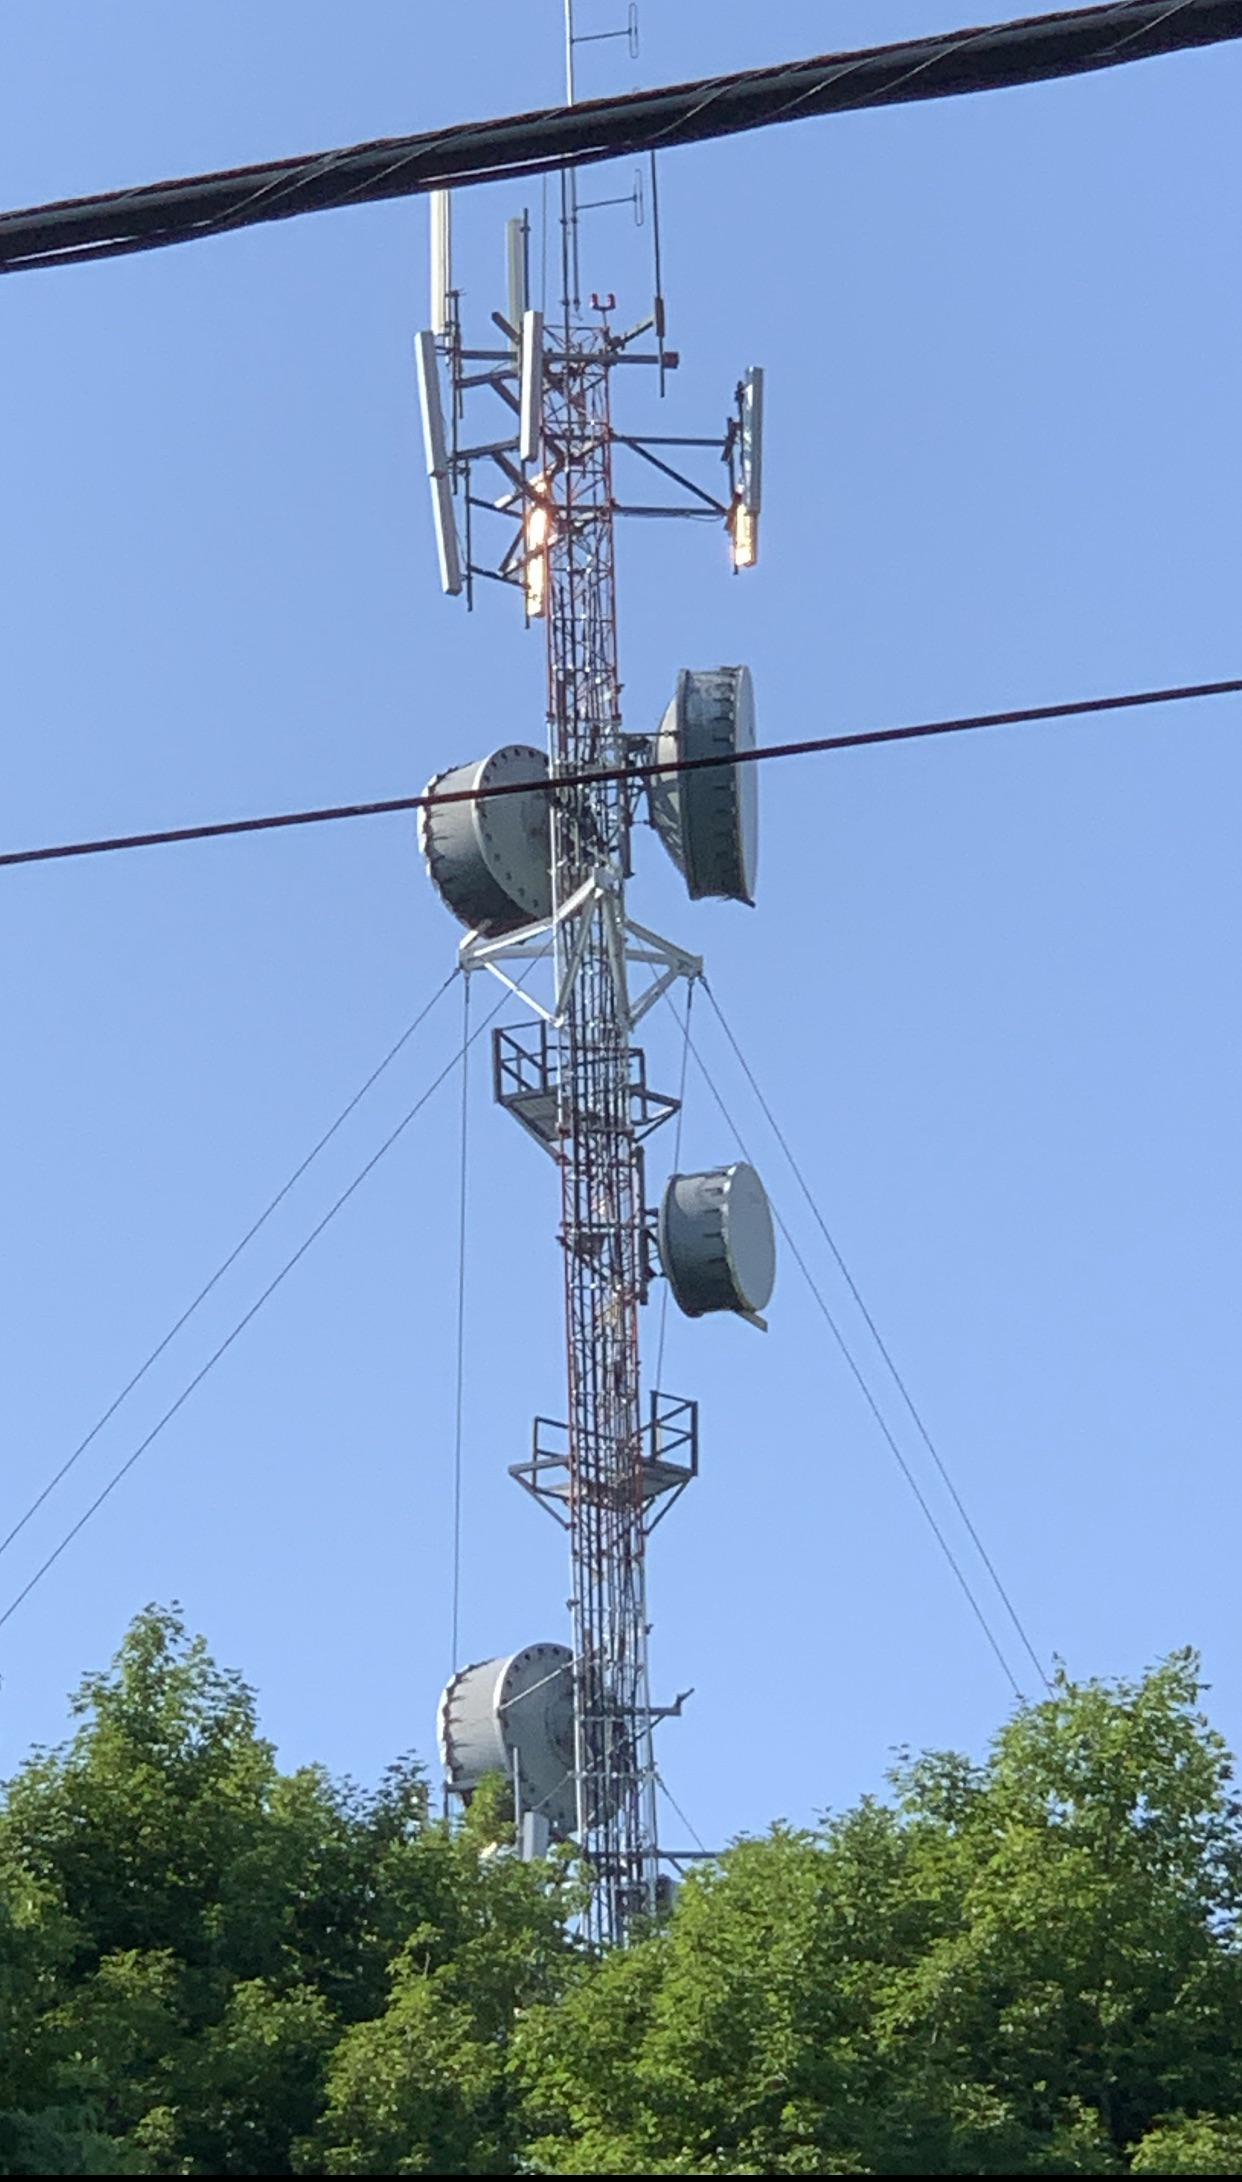ba: (399, 1602, 661, 1846), (399, 668, 572, 953), (631, 662, 775, 916), (634, 1131, 763, 1307)
sa: (376, 318, 488, 632), (676, 357, 796, 580), (424, 157, 491, 333)
